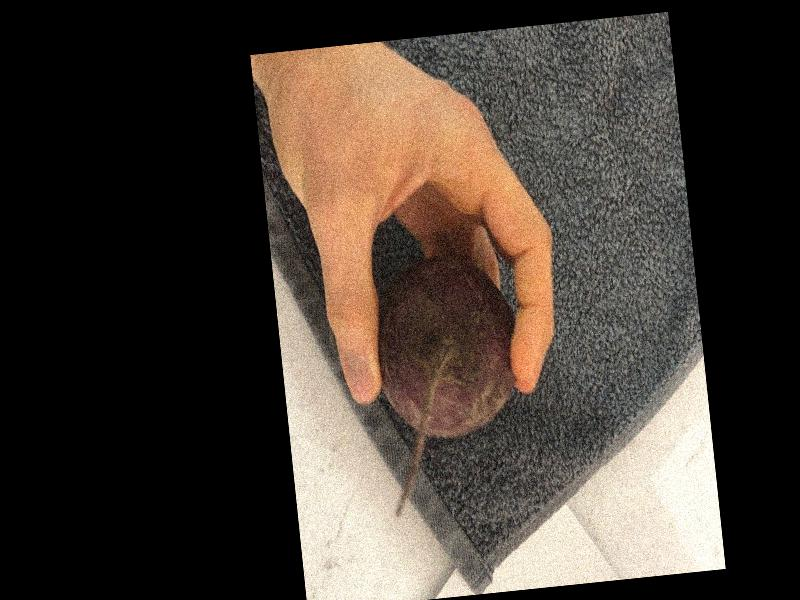Beet: (368, 250, 533, 518)
